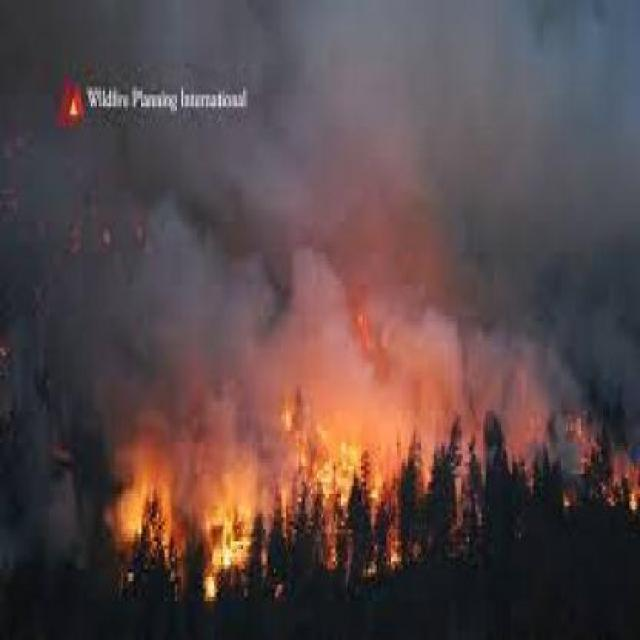Fire: (102, 410, 415, 624)
Smoke: (0, 0, 640, 430)
